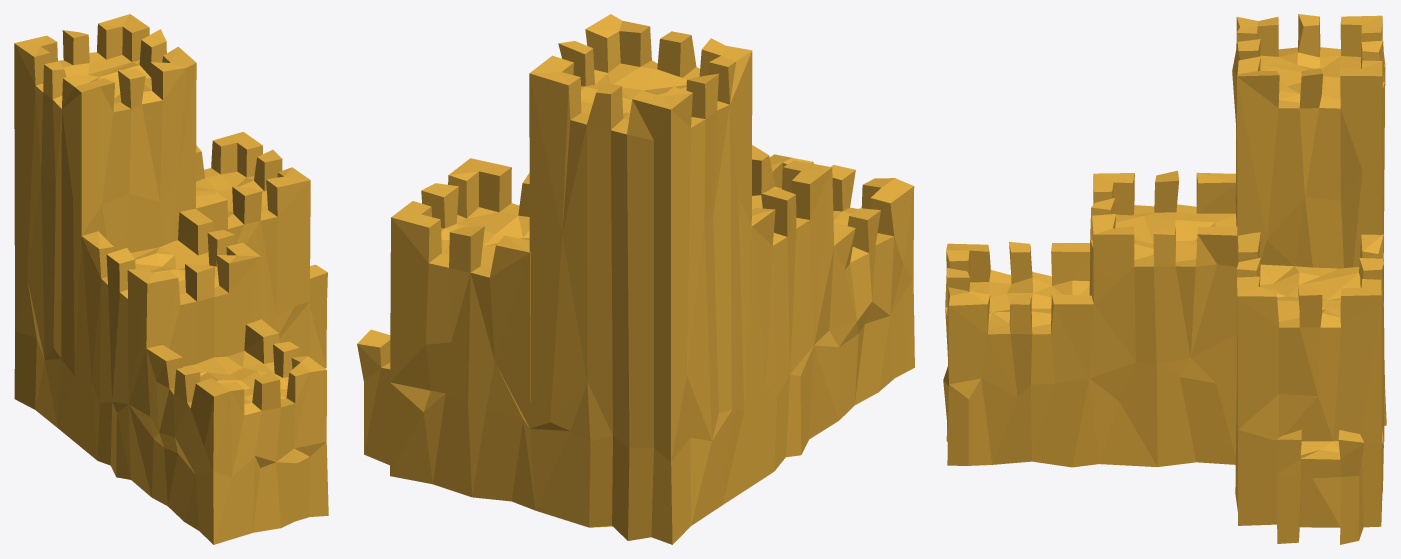
File: sandCastle.gltf
The picture shows the model from 3 angles, left to right: view 1: azimuth 30°, elevation 25°; view 2: azimuth 150°, elevation 25°; view 3: azimuth 270°, elevation 25°; orthographic projection. The views are drawn at different scales.
Visible parts, largest first — view 1: Cube.006; view 2: Cube.006; view 3: Cube.006.
Part boxes in pixels (x1,y1,x2,y2): Cube.006: (14,14,328,544); Cube.006: (357,14,914,544); Cube.006: (943,14,1386,544).
Bounding box in the file's own units: 2.34 × 3.04 × 3.06.
